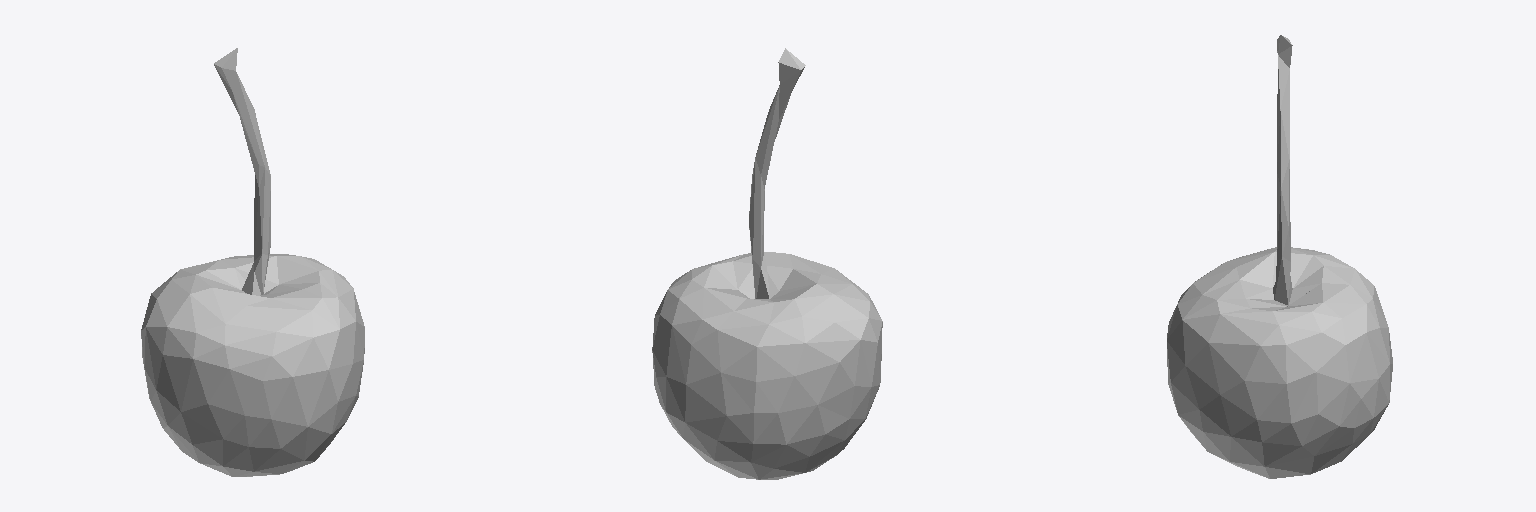
Rendered from cherryO.obj.
3 renders of one model, left to right at view 1: azimuth 30°, elevation 25°; view 2: azimuth 150°, elevation 25°; view 3: azimuth 270°, elevation 25°, orthographic.
Parts seen in each view (by area): view 1: cherryO.001; view 2: cherryO.001; view 3: cherryO.001.
Boxes of the visible parts, x1=… form: cherryO.001: x1=141, y1=48, x2=364, y2=476; cherryO.001: x1=652, y1=48, x2=882, y2=479; cherryO.001: x1=1167, y1=35, x2=1392, y2=478.
Bounding box in the file's own units: 0.631 × 1.26 × 0.6091.